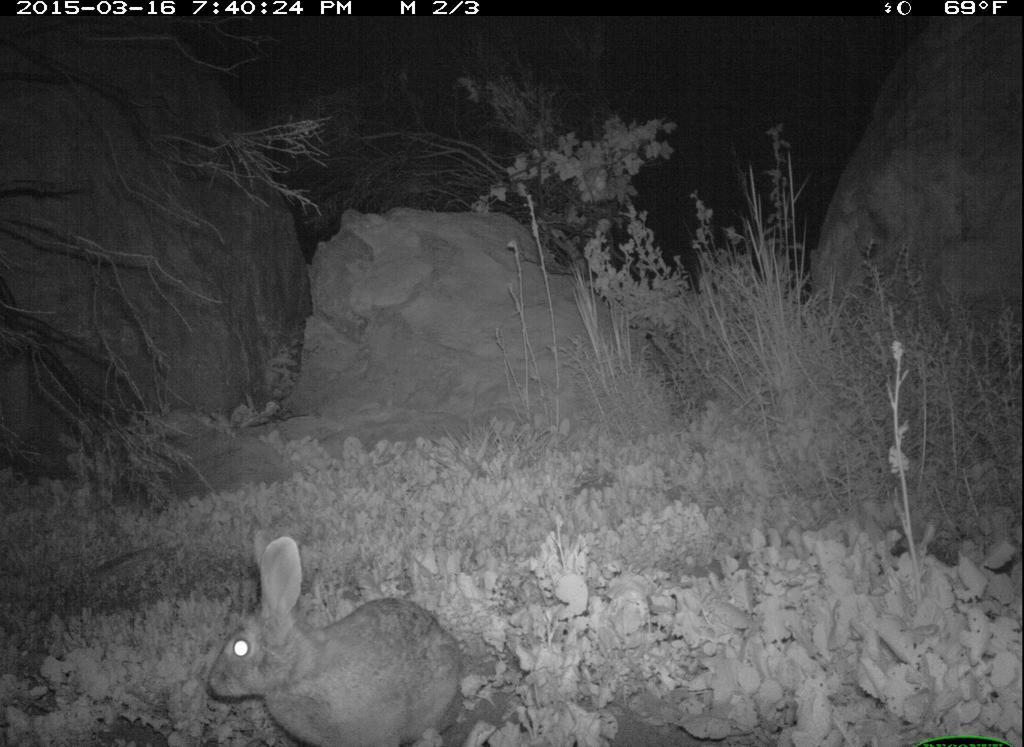rabbit: (191, 525, 497, 747)
